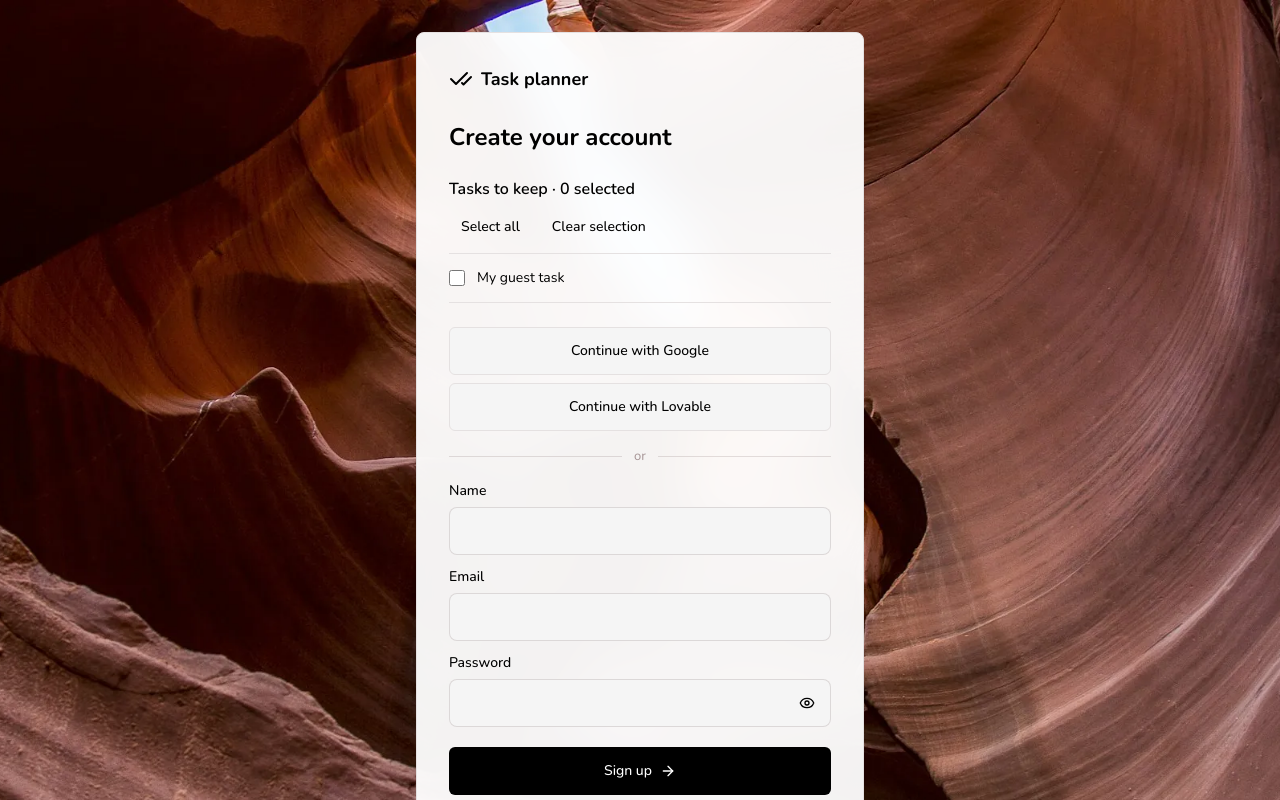
Test: account pages › discards the transfer after signup fails
Step 1. Click the checkbox labelled "My guest task" → (457, 278), box [449, 270, 465, 286]
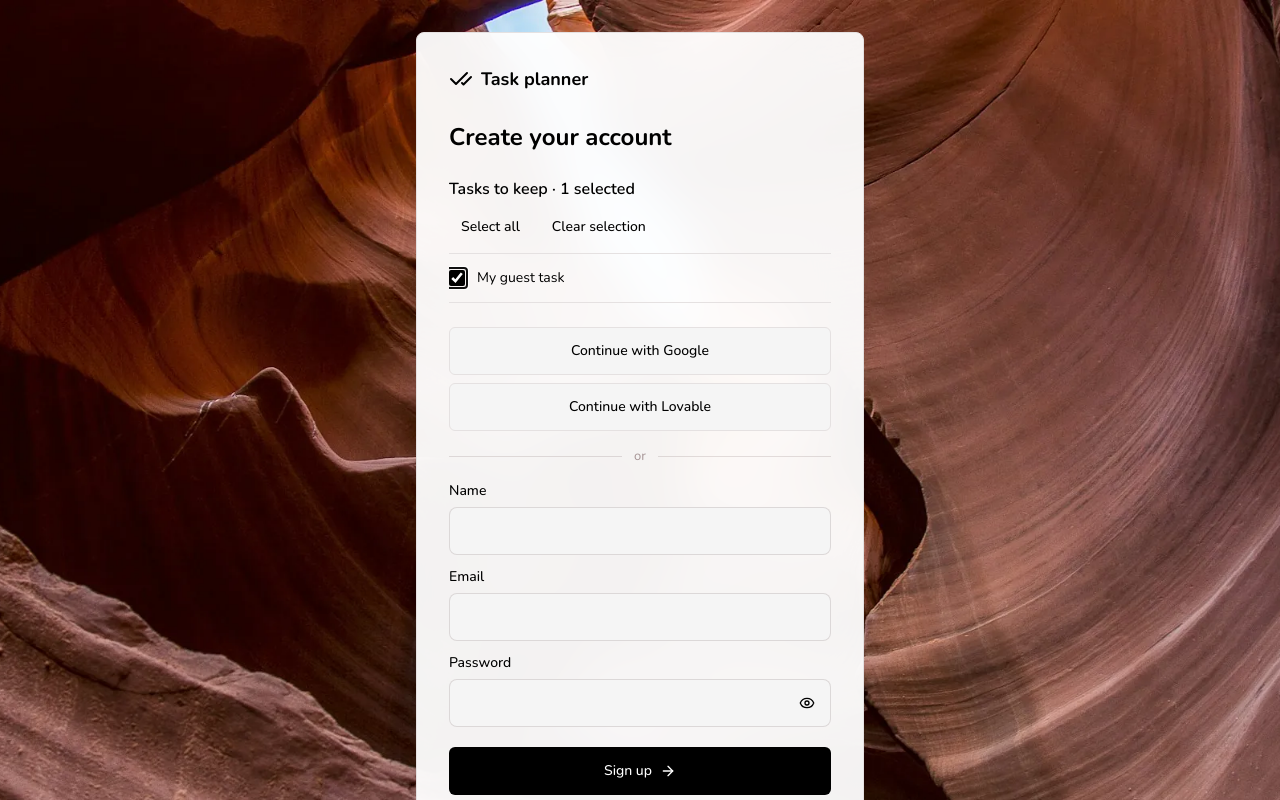
Step 2. Type "Alex" into the field labelled "Name" → (640, 531), box [449, 507, 831, 555]
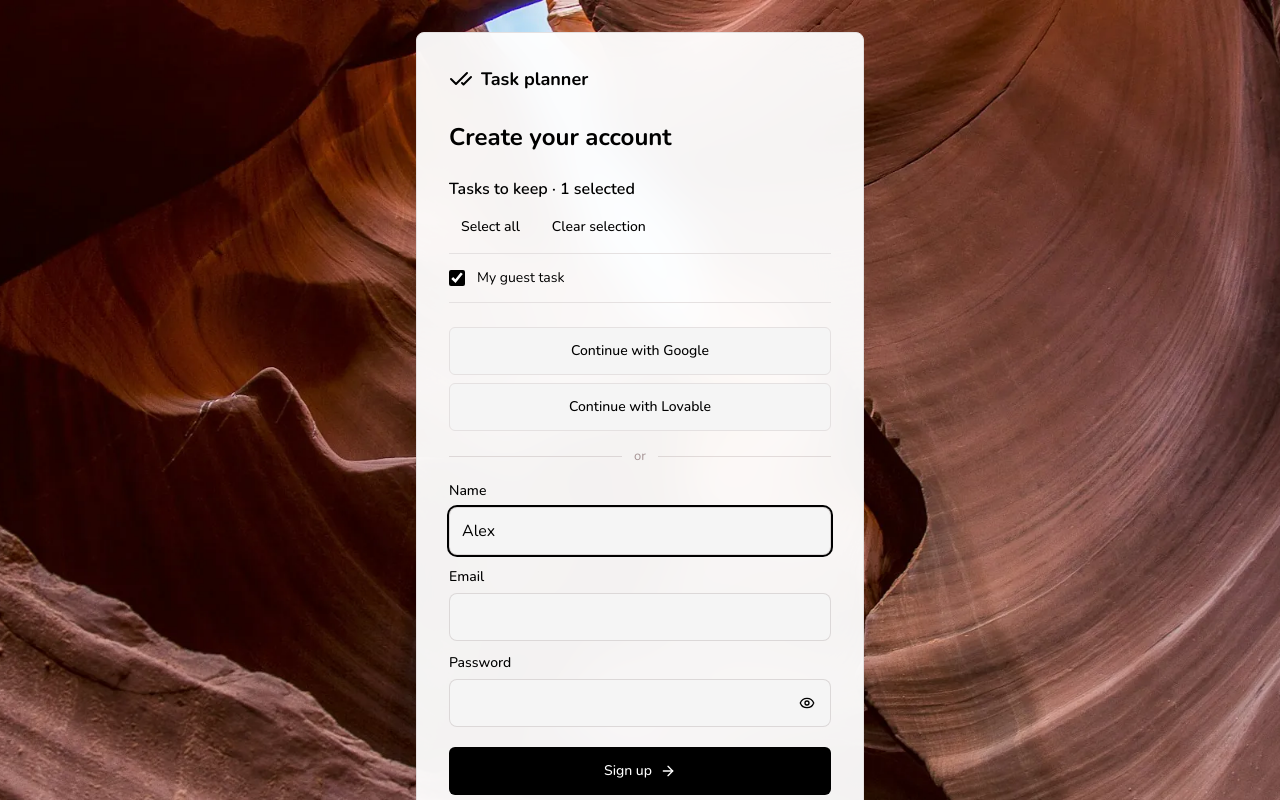
Step 3. Type "alex@example.com" into the field labelled "Email" → (640, 617), box [449, 593, 831, 641]
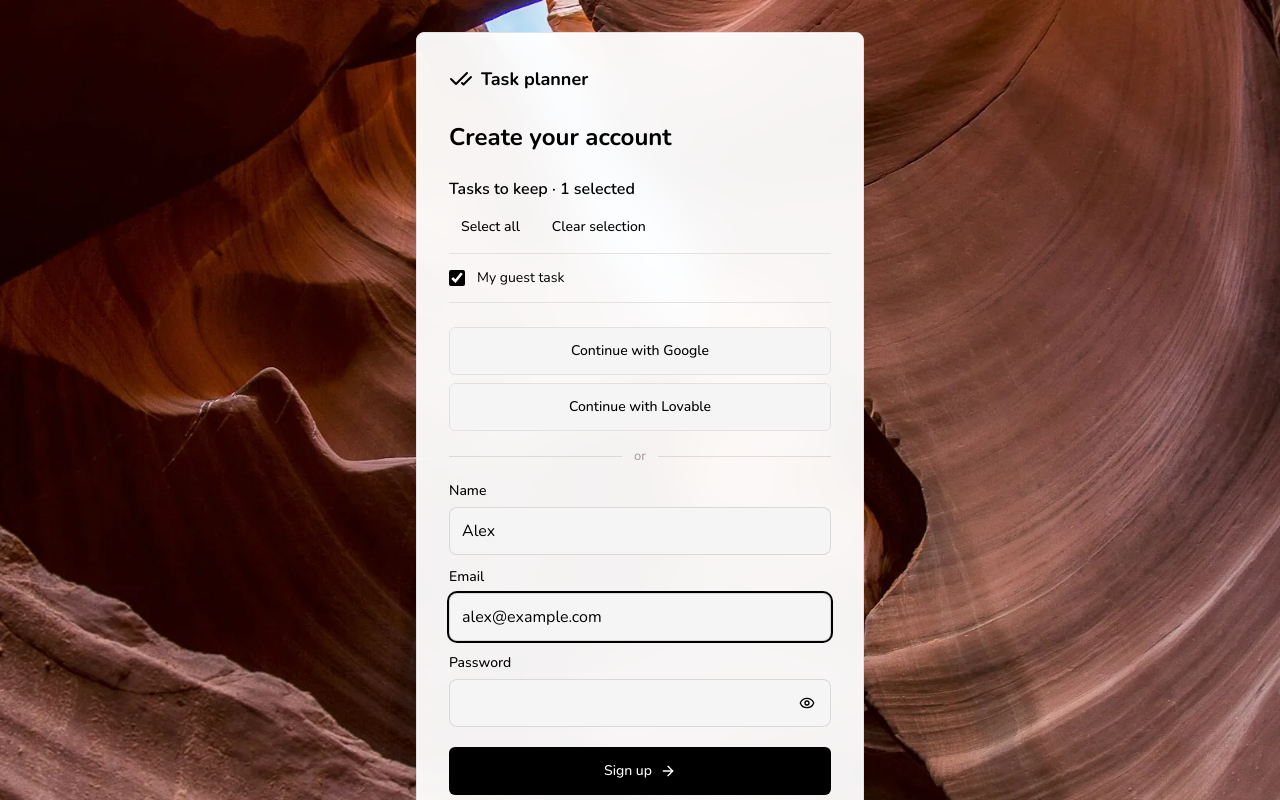
Step 4. Type "secret123" into the password field labelled "Password" → (640, 703), box [449, 679, 831, 727]
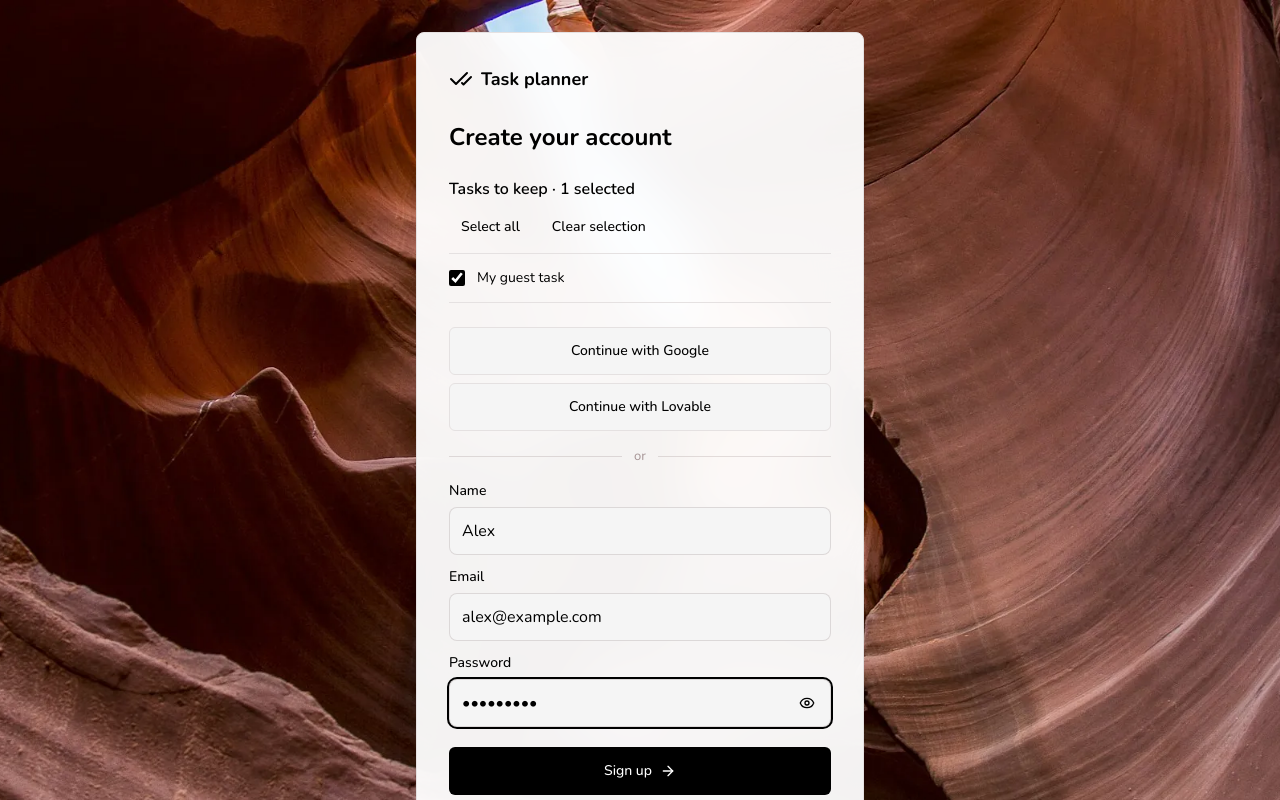
Step 5. Click the button "Sign up" → (640, 771), box [449, 747, 831, 795]
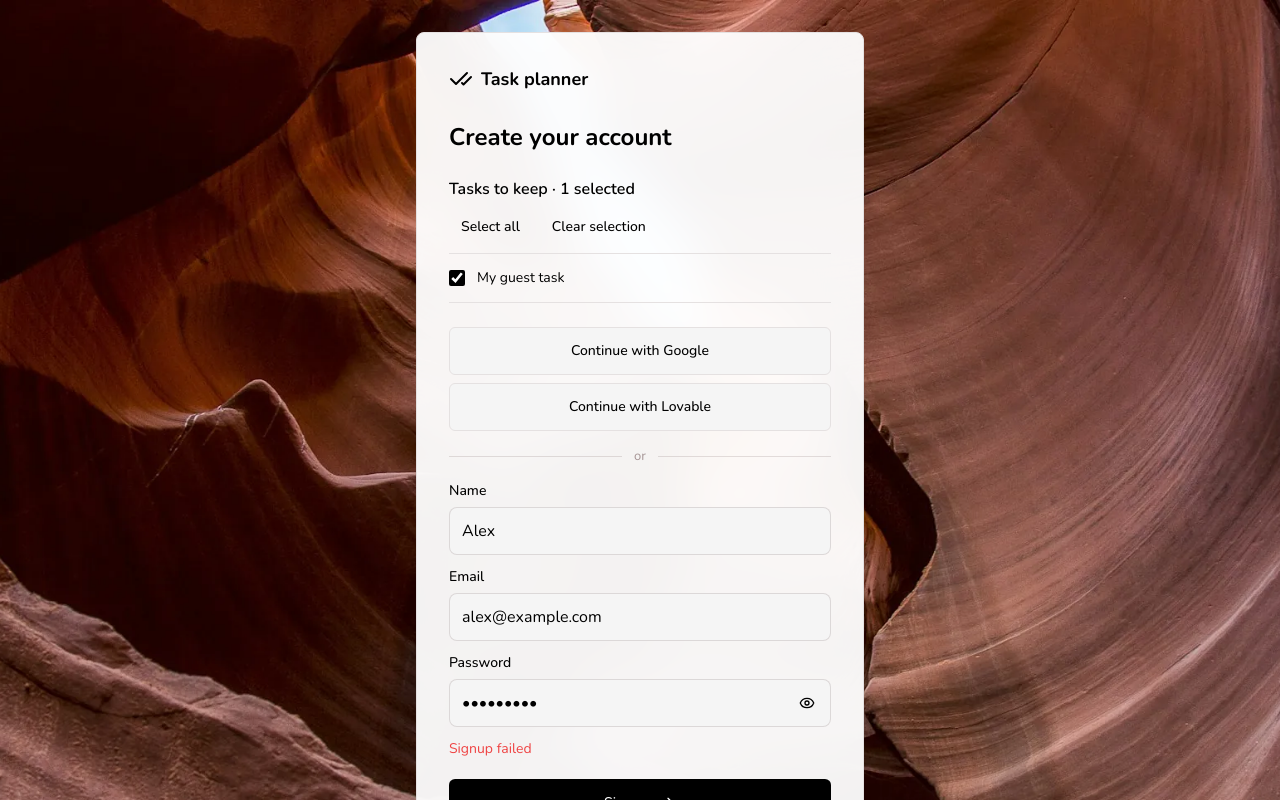
expect the message "Signup failed" is shown: met, box [449, 739, 532, 758]
